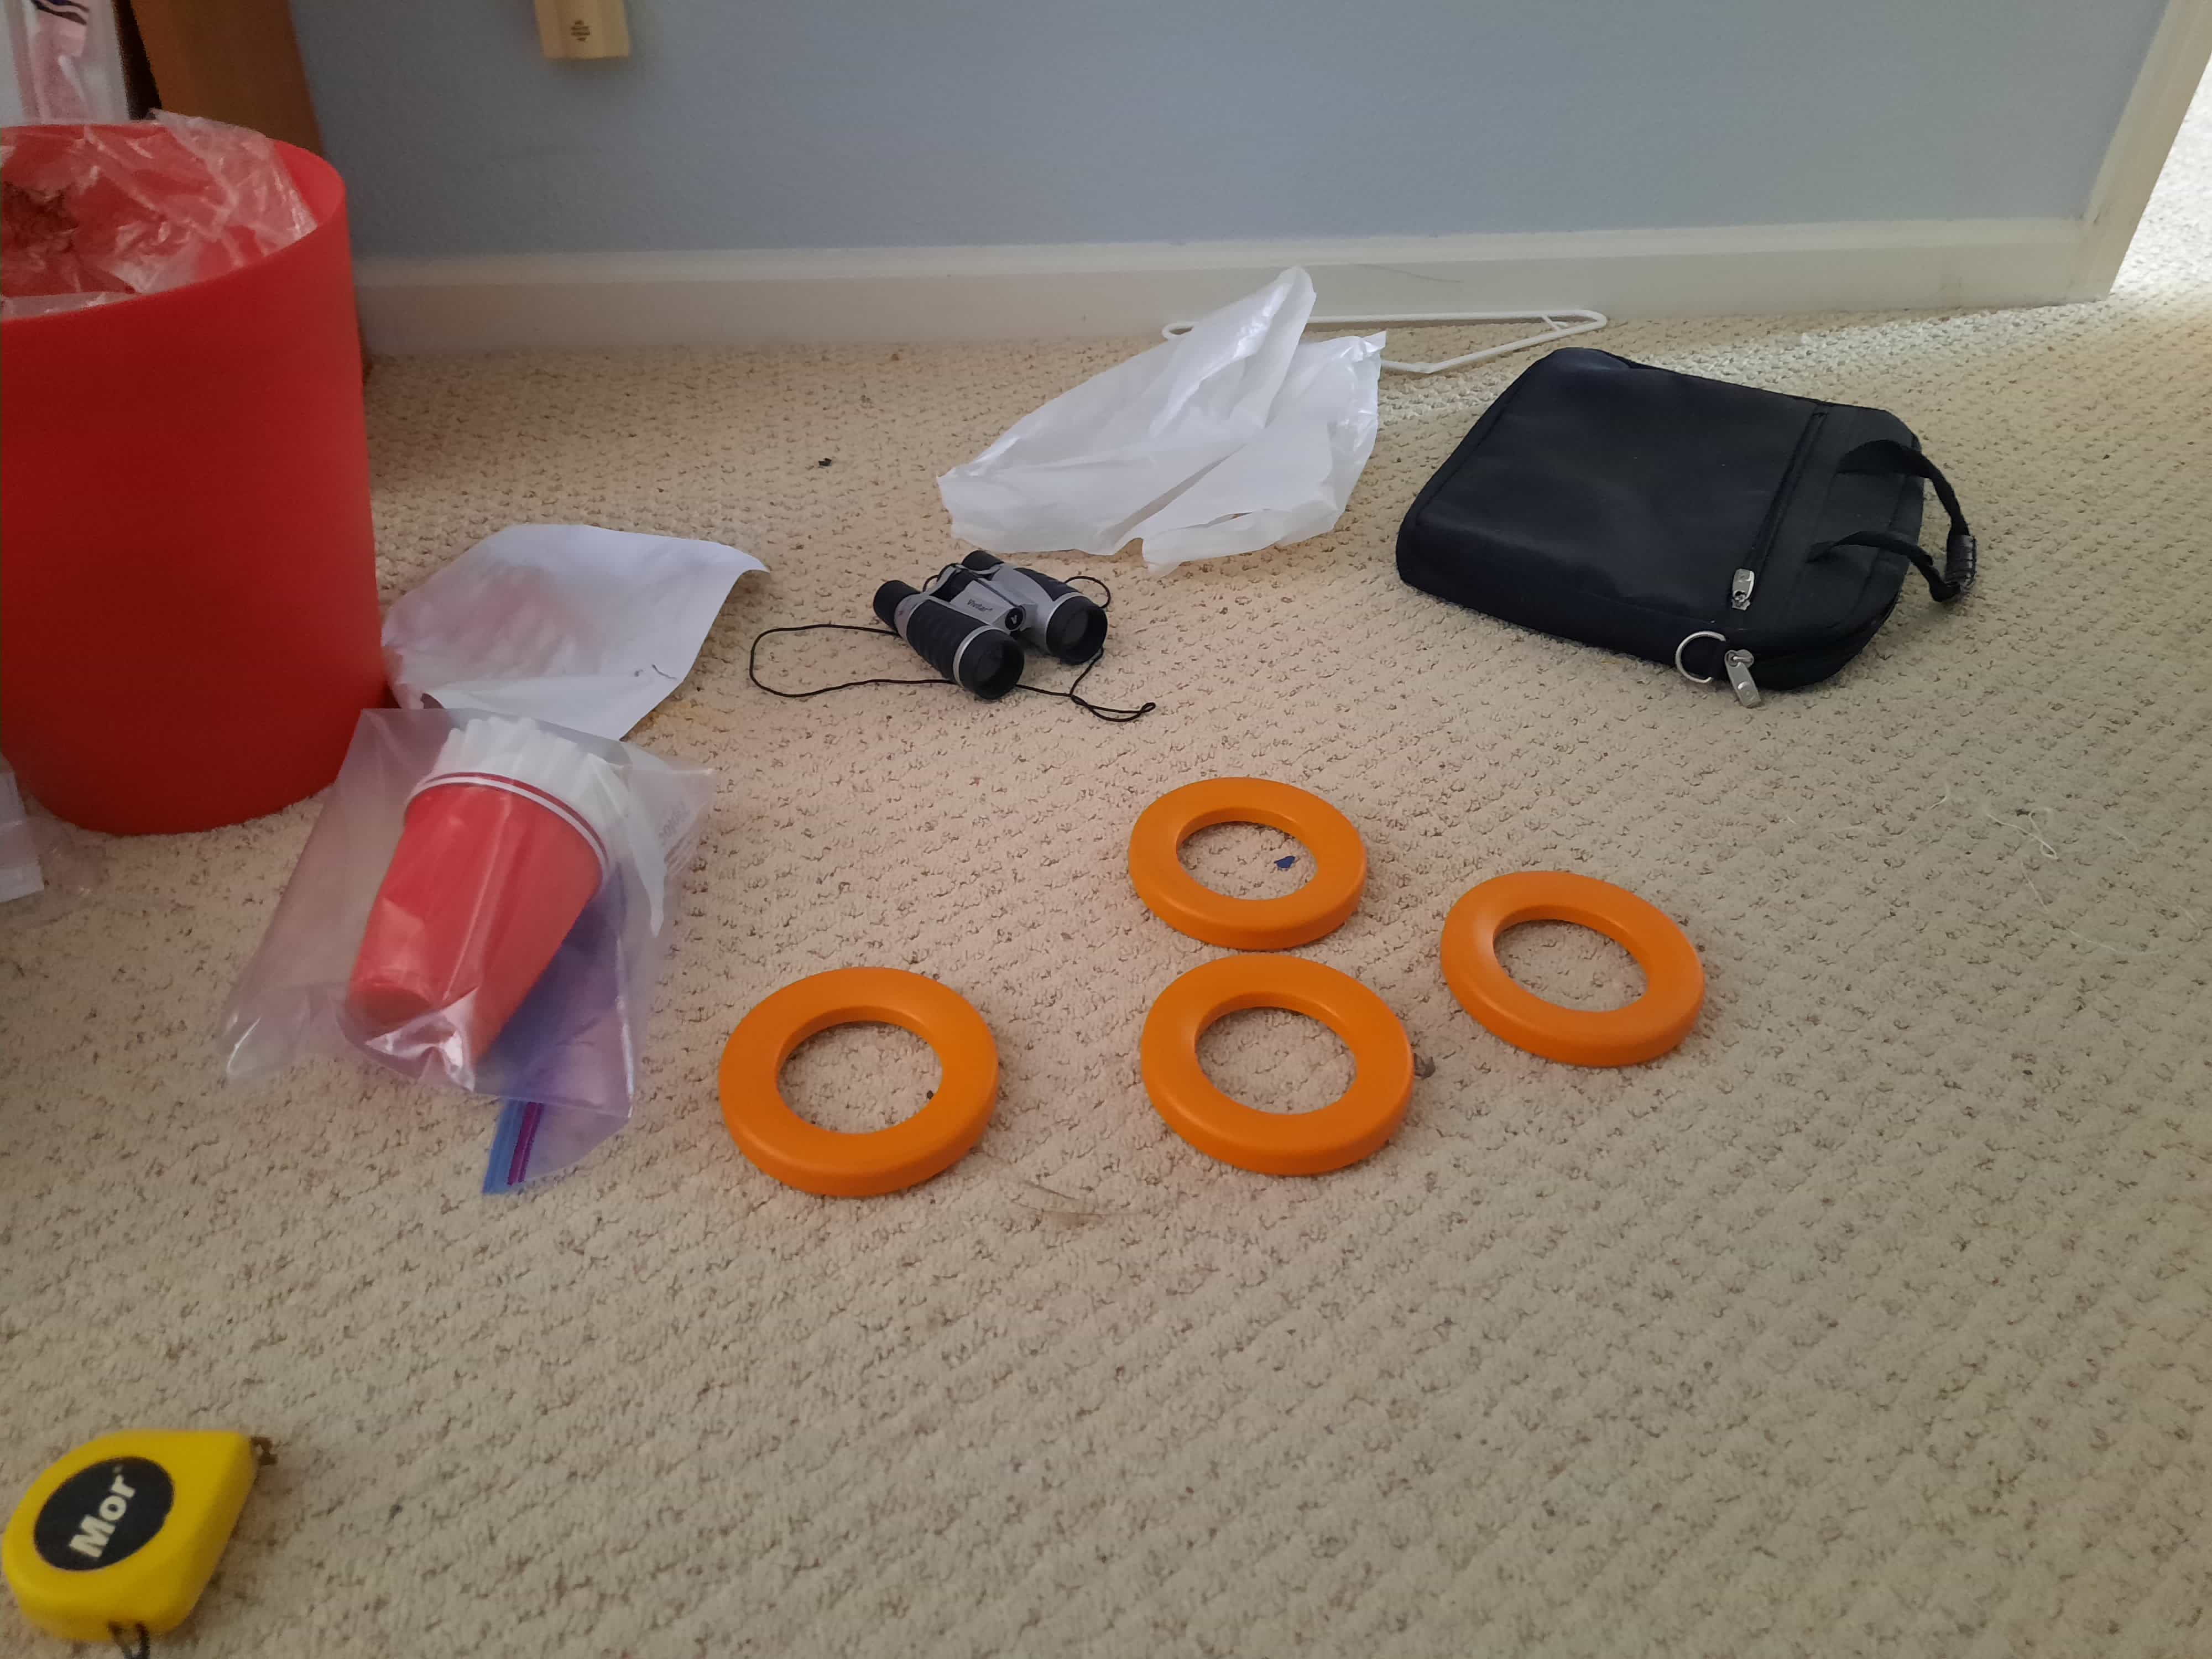OneStack: (1127, 950, 1418, 1166), (723, 976, 996, 1182), (1444, 870, 1712, 1075), (1132, 760, 1374, 934)
